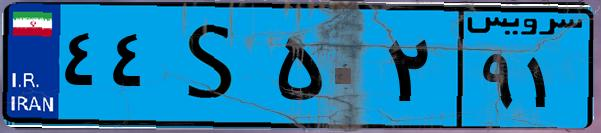0: (330, 28, 385, 110)
1: (525, 38, 570, 115)
2: (385, 28, 445, 110)
4: (57, 26, 110, 100), (110, 28, 158, 98)
5: (270, 28, 330, 110)
9: (475, 38, 525, 113)
S: (158, 12, 270, 120)
